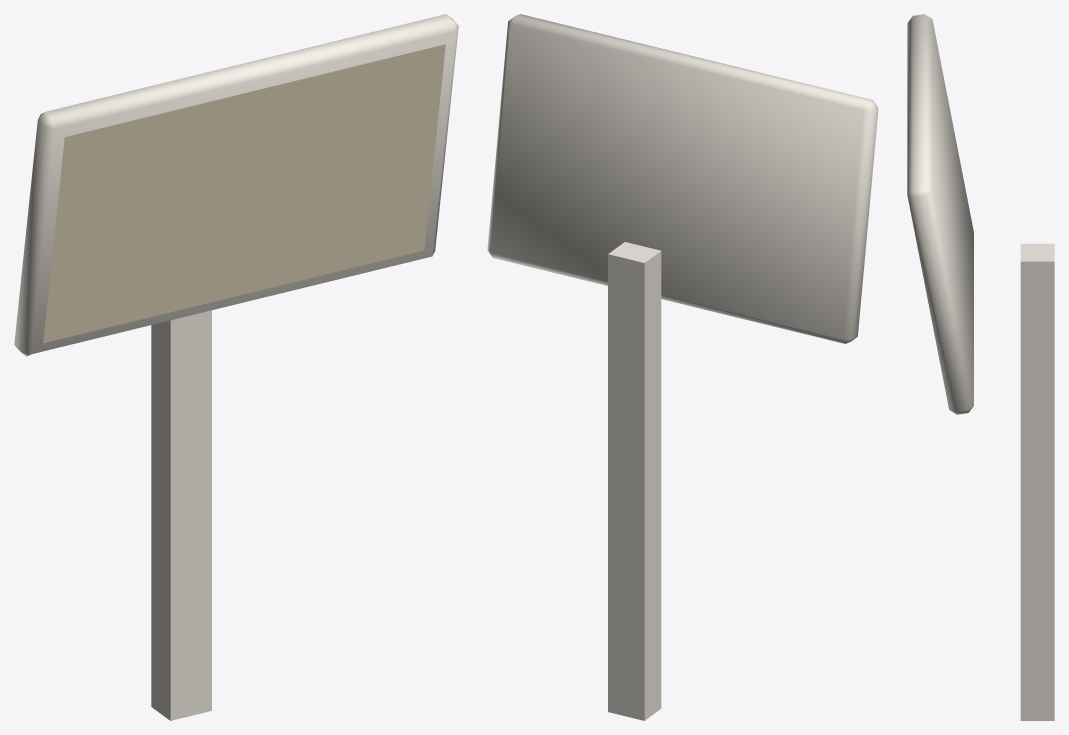
The model's file is garden_sign.glb.
3 renders of one model, left to right at view 1: azimuth 30°, elevation 25°; view 2: azimuth 150°, elevation 25°; view 3: azimuth 270°, elevation 25°, orthographic. The views are drawn at different scales.
Visible parts, largest first — view 1: garden_sign; view 2: garden_sign; view 3: garden_sign.
Boxes of the visible parts, <box> form: garden_sign: <box>14,14,458,720</box>; garden_sign: <box>487,14,878,720</box>; garden_sign: <box>907,14,1054,720</box>.
Size of the model in its own units: 0.5 by 0.7989 by 0.174.
2 materials, 1 textured.
